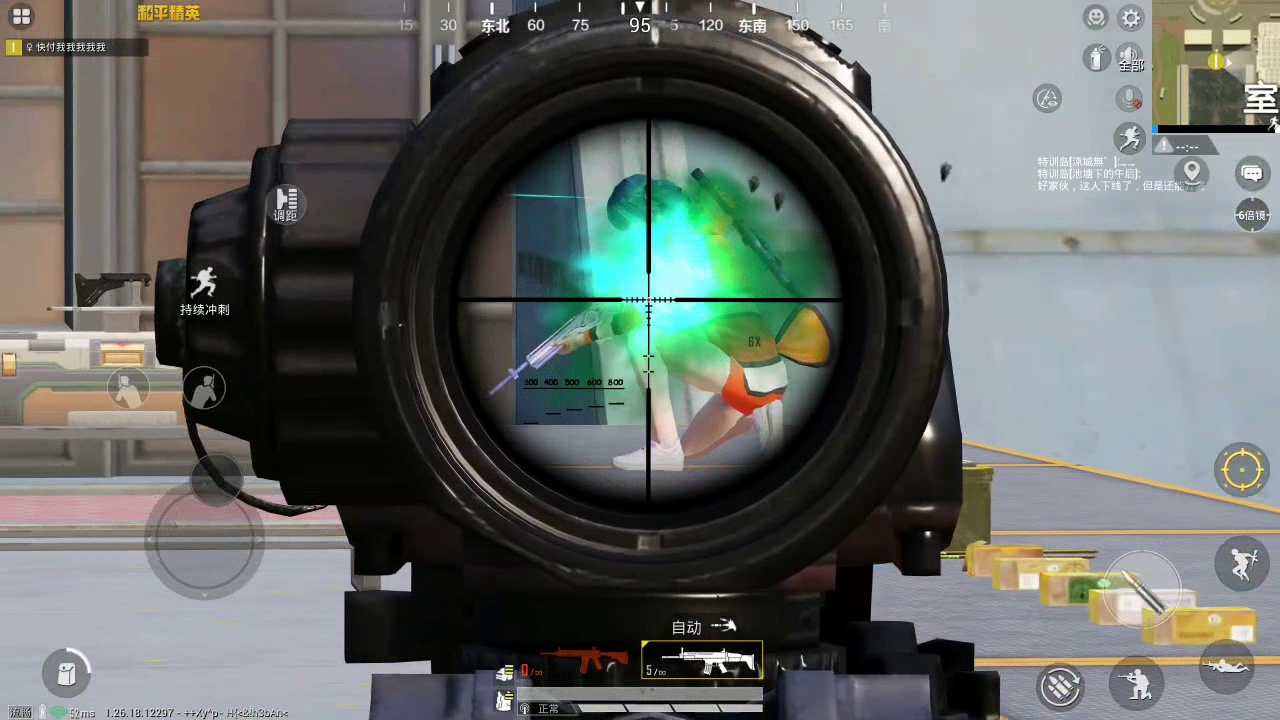enemy: (589, 167, 799, 482)
